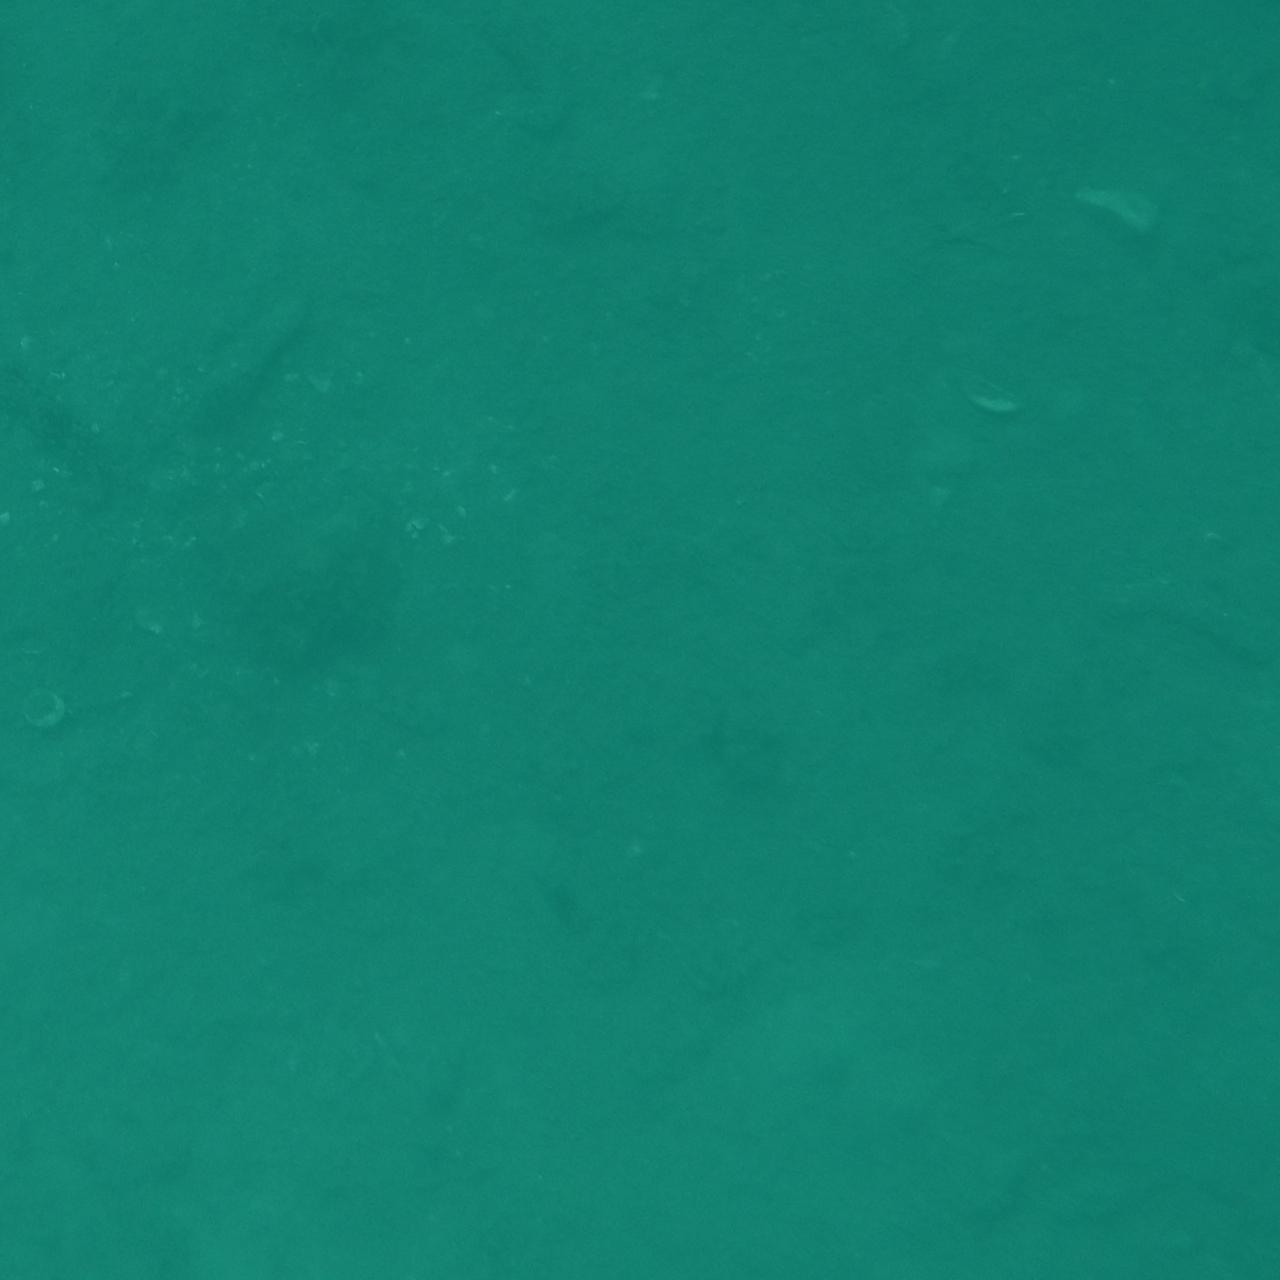Holothuria tubulosa: (1009, 553, 1280, 713), (142, 266, 340, 457), (0, 0, 125, 138), (1101, 1216, 1280, 1280)
